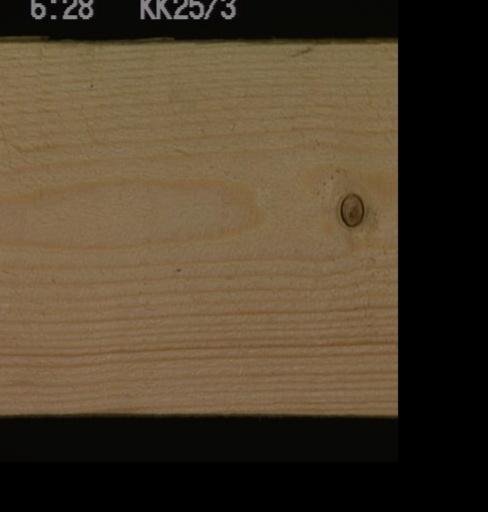dry_knot: (337, 190, 365, 228)
